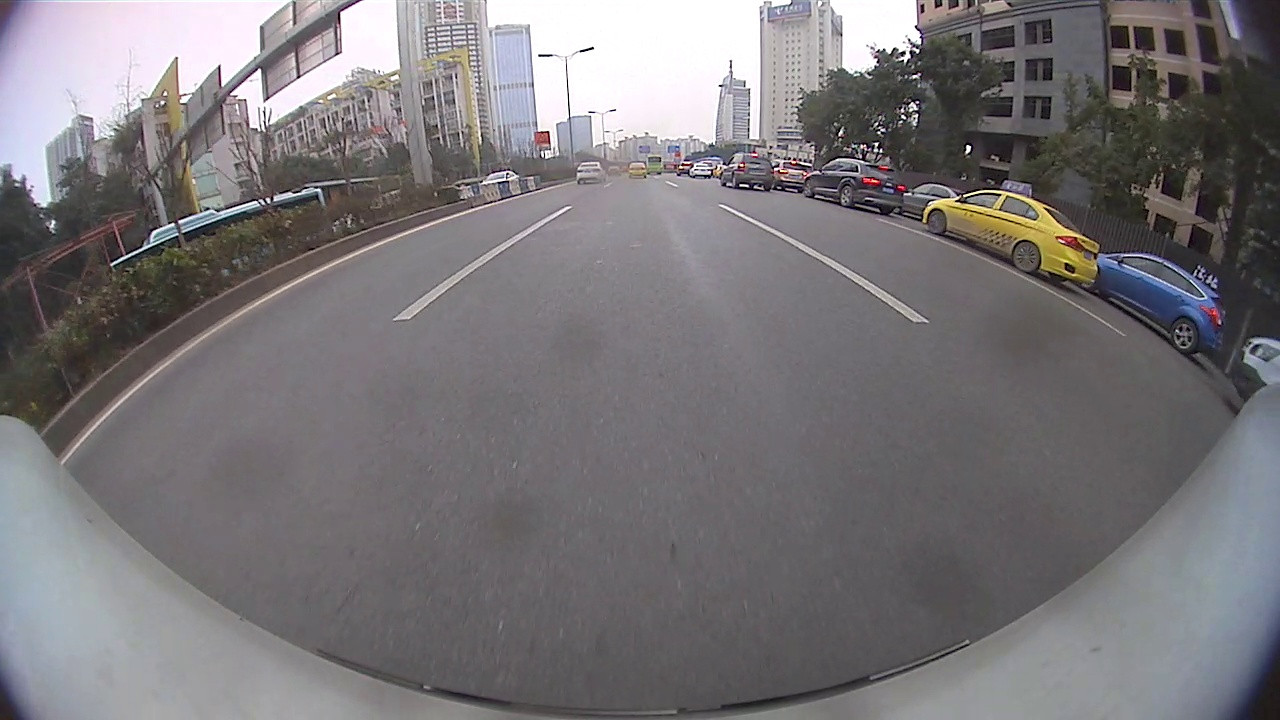bus: (109, 187, 327, 279)
car: (923, 188, 1100, 285), (1095, 253, 1226, 354), (804, 158, 905, 214), (1234, 336, 1278, 402), (903, 181, 961, 217), (719, 153, 774, 190), (766, 159, 808, 192), (576, 160, 607, 184)
front: (926, 210, 948, 236), (801, 180, 815, 197)
rear: (1171, 320, 1201, 358), (1012, 239, 1042, 276), (839, 181, 858, 208)
